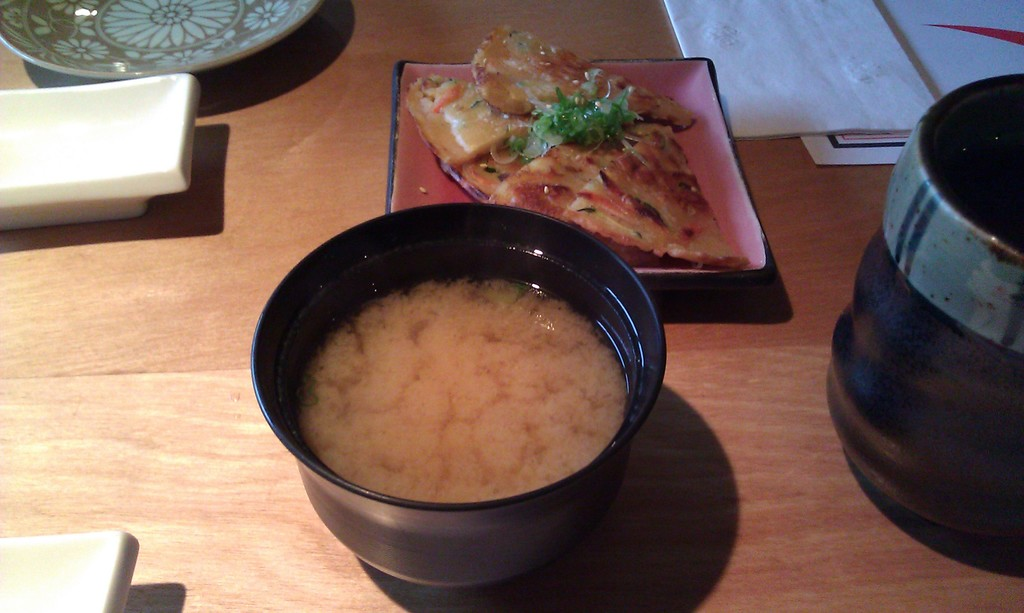plate: (368, 32, 827, 274)
